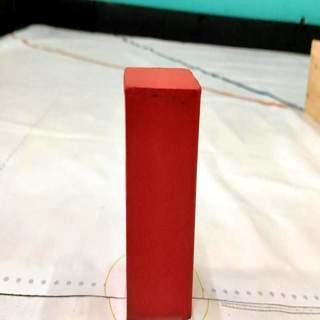redbox: (124, 65, 201, 320)
